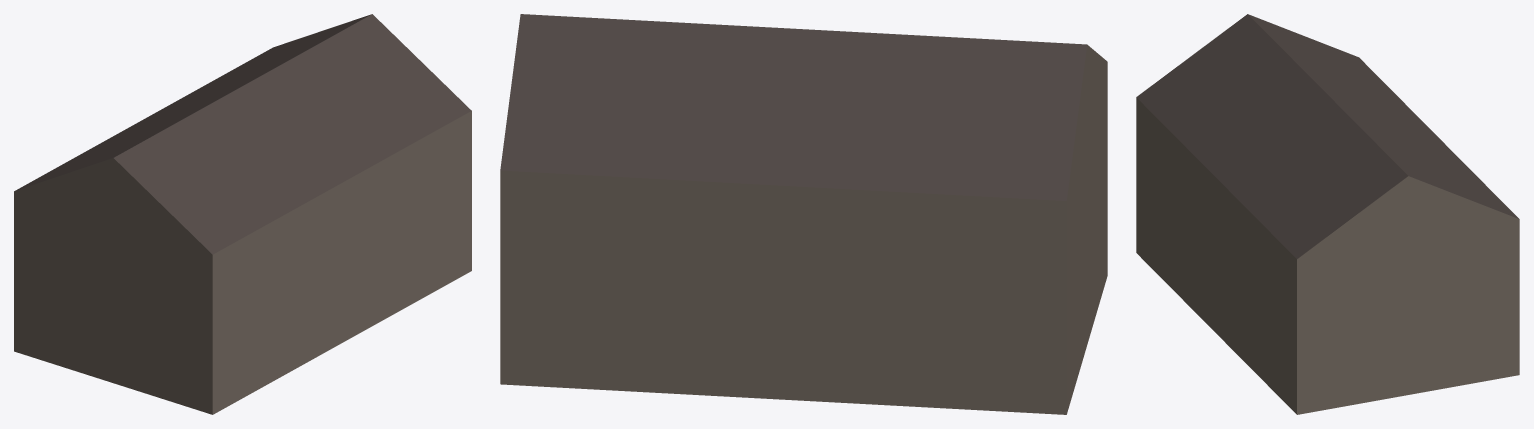
3 renders of one model, left to right at view 1: azimuth 30°, elevation 25°; view 2: azimuth 150°, elevation 25°; view 3: azimuth 270°, elevation 25°, orthographic. The views are drawn at different scales.
Visible parts, largest first — view 1: HP-w369342567; view 2: HP-w369342567; view 3: HP-w369342567.
Boxes of the visible parts, left/top/right/bottom form: HP-w369342567: left=14, top=14, right=471, bottom=414; HP-w369342567: left=500, top=14, right=1107, bottom=414; HP-w369342567: left=1136, top=14, right=1519, bottom=414.
Bounding box in the file's own units: 25.03 × 12.66 × 20.09.
